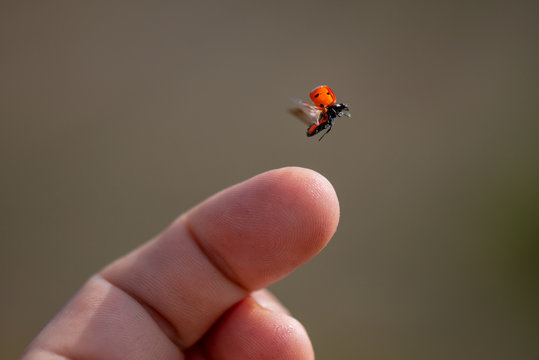insect: (288, 84, 354, 138)
